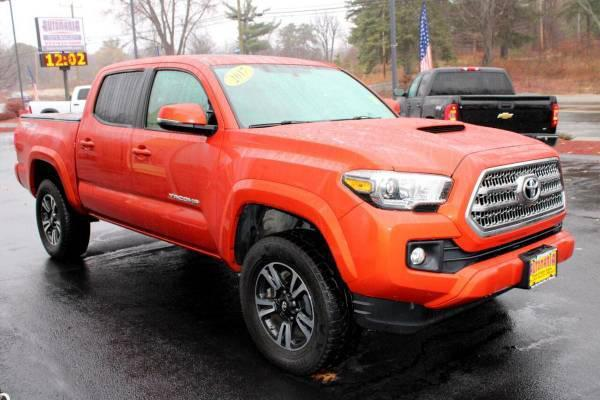Front_Bumper: (324, 178, 578, 330)
Front_Fender: (215, 132, 382, 269)
Front_Right_Door: (128, 130, 225, 256)
Front_Right_Window: (132, 67, 219, 139)
Front_Windshield: (213, 65, 396, 129)
Grille: (465, 158, 566, 237)
Hood: (248, 117, 557, 177)
Rear_Fender: (11, 117, 79, 209)
Rear_Right_Door: (74, 120, 132, 227)
Rear_Right_Window: (93, 70, 150, 129)
Right_Headlight: (343, 169, 455, 216)
Roof: (80, 50, 333, 133)
Wheel: (240, 234, 347, 380), (34, 183, 89, 264)
